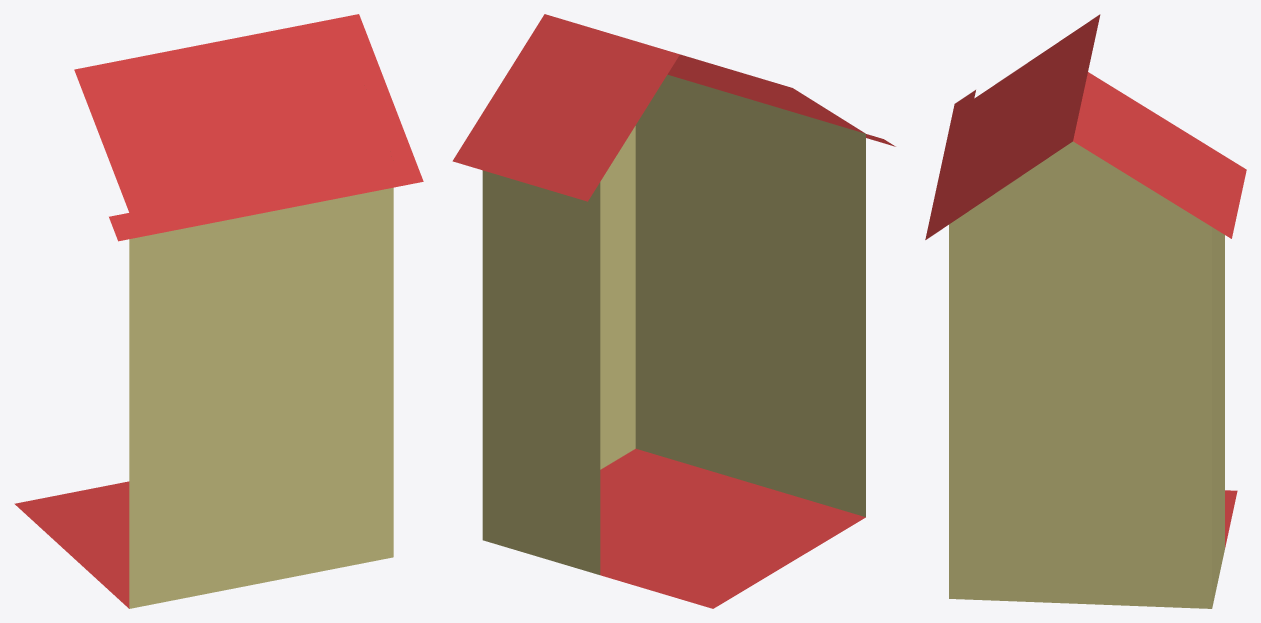
3 views of the same model, side by side, from view 1: azimuth 30°, elevation 25°; view 2: azimuth 150°, elevation 25°; view 3: azimuth 270°, elevation 25° (orthographic). The views are drawn at different scales.
Size of the model in its own units: 8.07 by 7.39 by 11.96.
